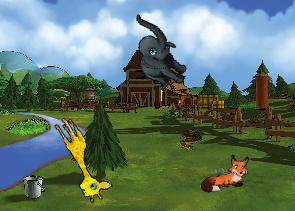elephant: (114, 13, 201, 93)
fox: (197, 152, 253, 194)
giraffe: (43, 113, 115, 206)
